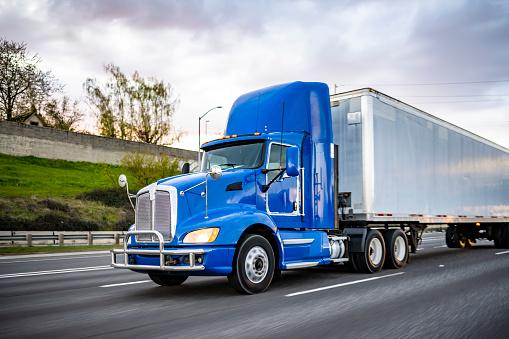truck: (110, 80, 509, 296)
